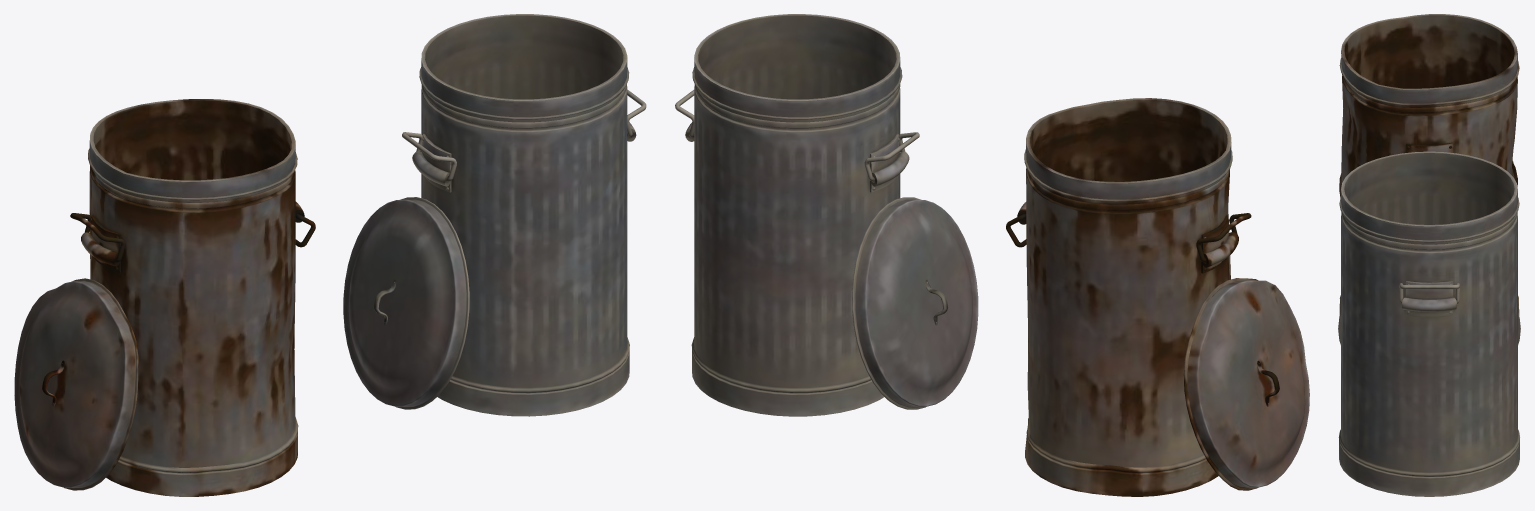
Rendered from metal_trash_can.gltf.
3 views of the same model, side by side, from view 1: azimuth 30°, elevation 25°; view 2: azimuth 150°, elevation 25°; view 3: azimuth 270°, elevation 25° (orthographic). The views are drawn at different scales.
Visible parts, largest first — view 1: metal_trash_can, metal_trash_can_rust, metal_trash_can_lid, metal_trash_can_rust_lid; view 2: metal_trash_can, metal_trash_can_rust, metal_trash_can_lid, metal_trash_can_rust_lid; view 3: metal_trash_can, metal_trash_can_rust, metal_trash_can_handle_right.
Part boxes in pixels (x1,y1,x2,y2): metal_trash_can: (412, 14, 636, 416); metal_trash_can_rust: (81, 99, 304, 496); metal_trash_can_lid: (343, 197, 469, 409); metal_trash_can_rust_lid: (14, 278, 138, 490); metal_trash_can: (685, 14, 909, 416); metal_trash_can_rust: (1017, 98, 1238, 496); metal_trash_can_lid: (852, 197, 978, 409); metal_trash_can_rust_lid: (1183, 278, 1309, 490); metal_trash_can: (1338, 151, 1519, 496); metal_trash_can_rust: (1339, 14, 1519, 316); metal_trash_can_handle_right: (1399, 283, 1459, 303).
Size of the model in its own units: 1.78 by 0.9062 by 0.5563.
3 materials, 3 textured.
